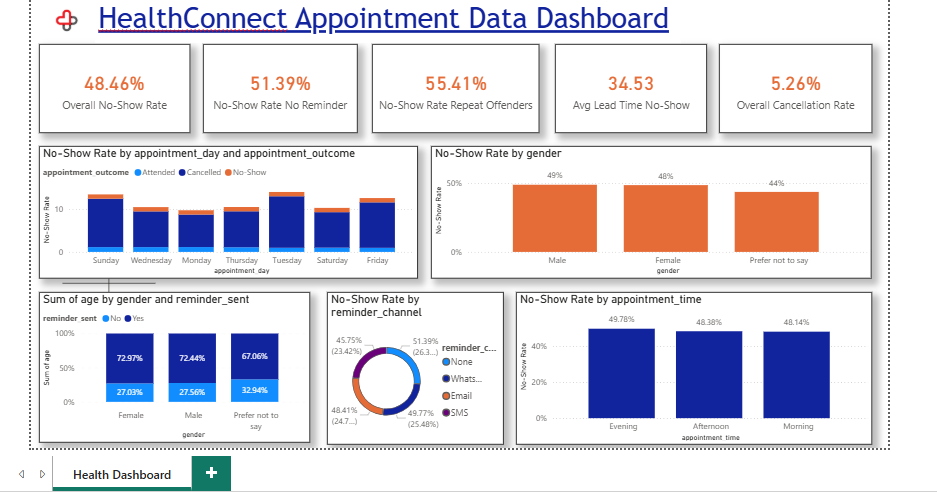

Layout of this report page (visuals, bound fields, positions):
{"tool":"powerbi","page":{"name":"Health Dashboard","canvas":[1280,720],"ordinal":0},"visuals":[{"type":"card","fields":{"Values":["HealthConnect_Appointment_Data.Overall Cancellation Rate"]},"box":[1028,117,229,133.4],"z":0},{"type":"card","fields":{"Values":["HealthConnect_Appointment_Data.Avg Lead Time No-Show"]},"box":[782.5,117,227.3,133.4],"z":1},{"type":"card","fields":{"Values":["HealthConnect_Appointment_Data.No-Show Rate Repeat Offenders"]},"box":[509,117,250.4,133.4],"z":2},{"type":"card","fields":{"Values":["HealthConnect_Appointment_Data.No-Show Rate No Reminder"]},"box":[257,117,230.6,133.4],"z":3},{"type":"card","fields":{"Values":["HealthConnect_Appointment_Data.Overall No-Show Rate"]},"box":[11.5,117,225.7,133.4],"z":4},{"type":"lineChart","fields":{"Category":["HealthConnect_Appointment_Data.appointment_type"],"Series":["HealthConnect_Appointment_Data.appointment_outcome"],"Rows":["HealthConnect_Appointment_Data.reminder_sent"]},"box":[41.5,370.5,150,151],"z":5},{"type":"lineStackedColumnComboChart","fields":{"Category":["HealthConnect_Appointment_Data.appointment_day"],"Series":["HealthConnect_Appointment_Data.appointment_outcome"],"Y":["HealthConnect_Appointment_Data.No-Show Rate"]},"box":[11.8,268.8,566.1,198.2],"z":6},{"type":"clusteredColumnChart","fields":{"Y":["HealthConnect_Appointment_Data.No-Show Rate"],"Category":["HealthConnect_Appointment_Data.gender"]},"box":[598,268.8,658.5,198.2],"z":7},{"type":"hundredPercentStackedColumnChart","fields":{"Category":["HealthConnect_Appointment_Data.gender"],"Y":["Sum(HealthConnect_Appointment_Data.age)"],"Series":["HealthConnect_Appointment_Data.reminder_sent"]},"box":[11.8,487.1,404.8,225.1],"z":8},{"type":"donutChart","fields":{"Category":["HealthConnect_Appointment_Data.reminder_channel"],"Y":["HealthConnect_Appointment_Data.No-Show Rate"]},"box":[441.8,487.1,263.7,228.5],"z":9},{"type":"clusteredColumnChart","fields":{"Y":["HealthConnect_Appointment_Data.No-Show Rate"],"Category":["HealthConnect_Appointment_Data.appointment_time"]},"box":[724,487.1,532.5,228.5],"z":10},{"type":"textbox","box":[95.6,47.8,875.4,67.2],"z":11},{"type":"image","box":[12,55.3,83.7,52.3],"z":12}]}

Visuals, with their boxes in screenshot pixels (x1, y1, x2, y2):
card - HealthConnect_Appointment_Data.Overall Cancellation Rate: {"left": 716, "top": 45, "right": 871, "bottom": 135}
card - HealthConnect_Appointment_Data.Avg Lead Time No-Show: {"left": 550, "top": 45, "right": 704, "bottom": 135}
card - HealthConnect_Appointment_Data.No-Show Rate Repeat Offenders: {"left": 366, "top": 45, "right": 535, "bottom": 135}
card - HealthConnect_Appointment_Data.No-Show Rate No Reminder: {"left": 195, "top": 45, "right": 351, "bottom": 135}
card - HealthConnect_Appointment_Data.Overall No-Show Rate: {"left": 30, "top": 45, "right": 182, "bottom": 135}
lineChart - HealthConnect_Appointment_Data.appointment_type x HealthConnect_Appointment_Data.appointment_outcome: {"left": 50, "top": 216, "right": 151, "bottom": 318}
lineStackedColumnComboChart - HealthConnect_Appointment_Data.appointment_day x HealthConnect_Appointment_Data.appointment_outcome: {"left": 30, "top": 147, "right": 412, "bottom": 281}
clusteredColumnChart - HealthConnect_Appointment_Data.No-Show Rate x HealthConnect_Appointment_Data.gender: {"left": 426, "top": 147, "right": 870, "bottom": 281}
hundredPercentStackedColumnChart - HealthConnect_Appointment_Data.gender x Sum(HealthConnect_Appointment_Data.age): {"left": 30, "top": 295, "right": 303, "bottom": 447}
donutChart - HealthConnect_Appointment_Data.reminder_channel x HealthConnect_Appointment_Data.No-Show Rate: {"left": 320, "top": 295, "right": 498, "bottom": 449}
clusteredColumnChart - HealthConnect_Appointment_Data.No-Show Rate x HealthConnect_Appointment_Data.appointment_time: {"left": 511, "top": 295, "right": 870, "bottom": 449}
textbox: {"left": 87, "top": 0, "right": 678, "bottom": 43}
image: {"left": 30, "top": 3, "right": 87, "bottom": 38}
